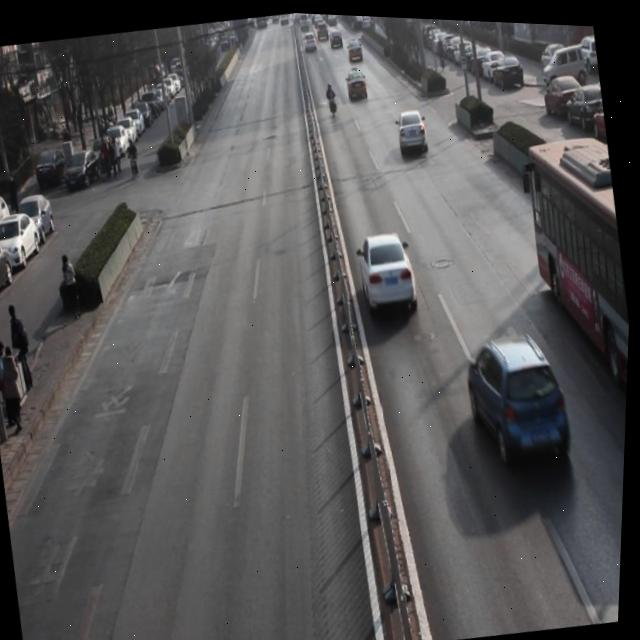car: (462, 325, 583, 484), (356, 227, 425, 321), (395, 103, 433, 157), (345, 63, 372, 105), (346, 36, 366, 63)
van: (515, 129, 637, 404)
